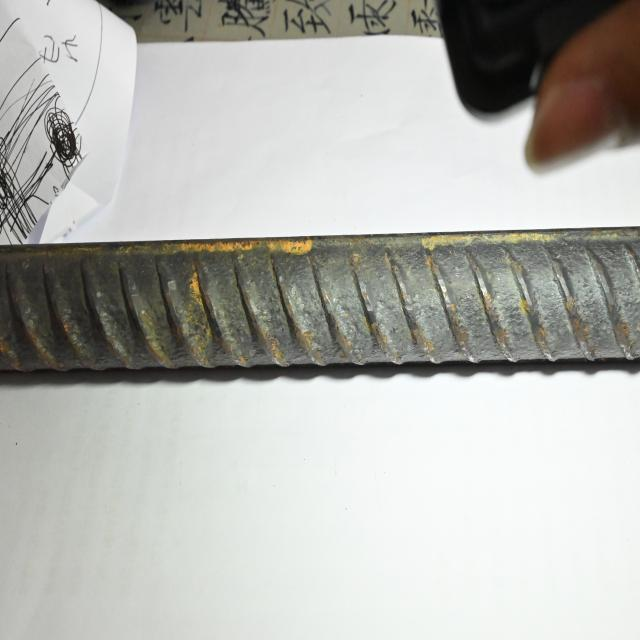ribbed bar: (0, 222, 639, 386)
